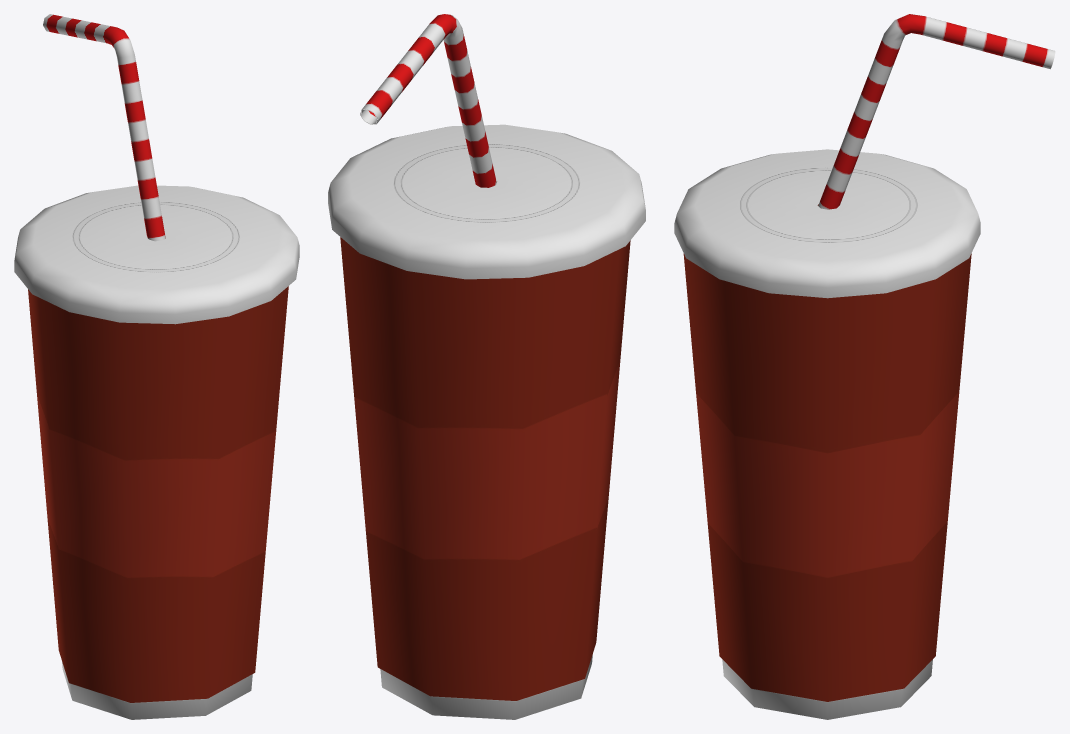
File: Cup_Drink_Empty.fbx
The picture shows the model from 3 angles, left to right: view 1: azimuth 30°, elevation 25°; view 2: azimuth 150°, elevation 25°; view 3: azimuth 270°, elevation 25°; orthographic projection. The views are drawn at different scales.
Visible parts, largest first — view 1: Drink_Cup_E; view 2: Drink_Cup_E; view 3: Drink_Cup_E.
Boxes of the visible parts, x1,y1,x2,y2 form: Drink_Cup_E: (14,14,299,719); Drink_Cup_E: (328,14,645,719); Drink_Cup_E: (674,14,1055,719).
Size of the model in its own units: 16.93 by 40.36 by 21.05.
